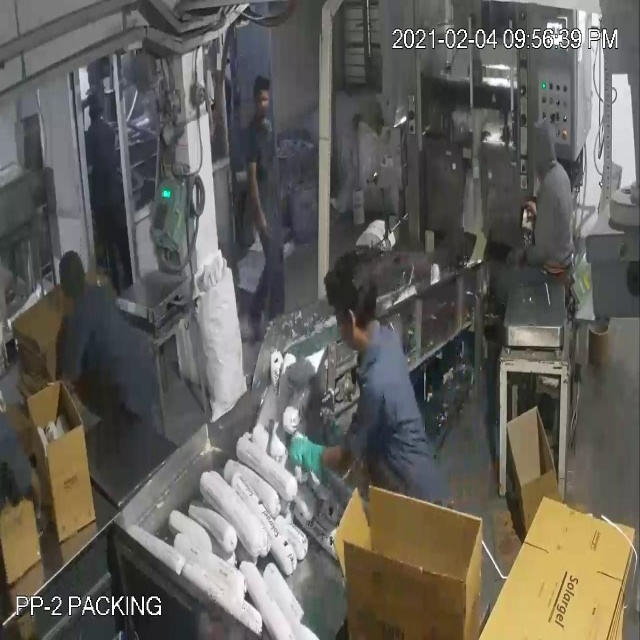Guantes: (287, 411, 345, 495)
Sin_guantes: (240, 159, 270, 239)
